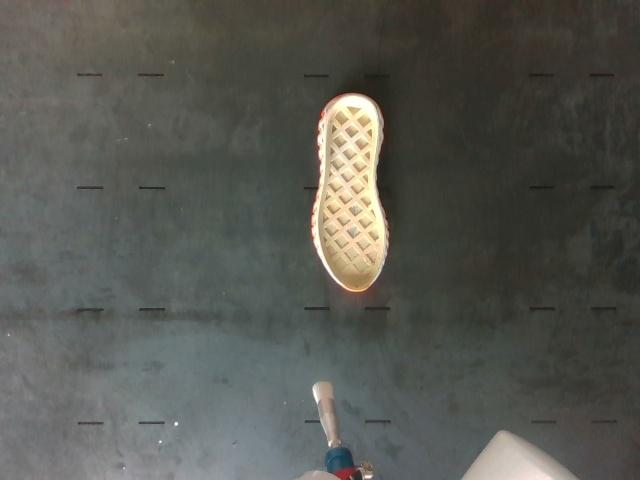shoes: (318, 96, 384, 290)
